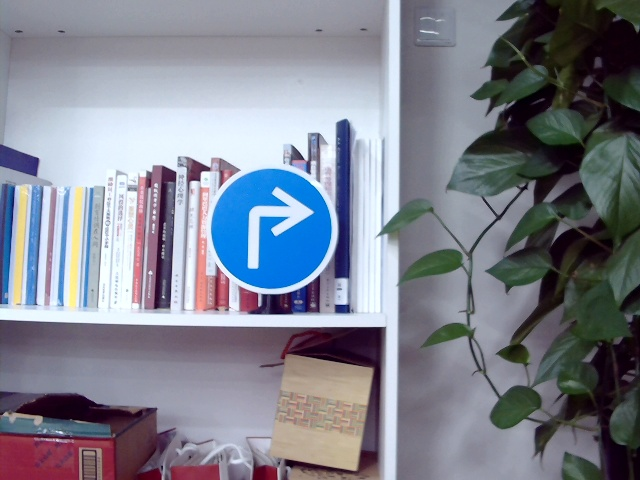turn_right: (236, 189, 312, 272)
